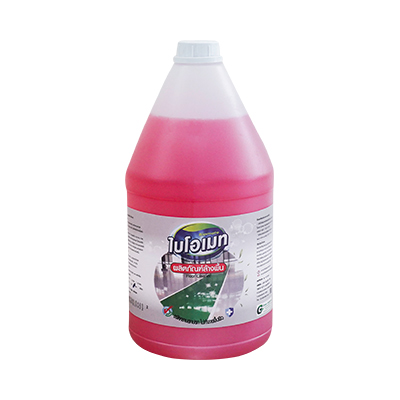Cleaning_solution: (117, 35, 278, 364)
